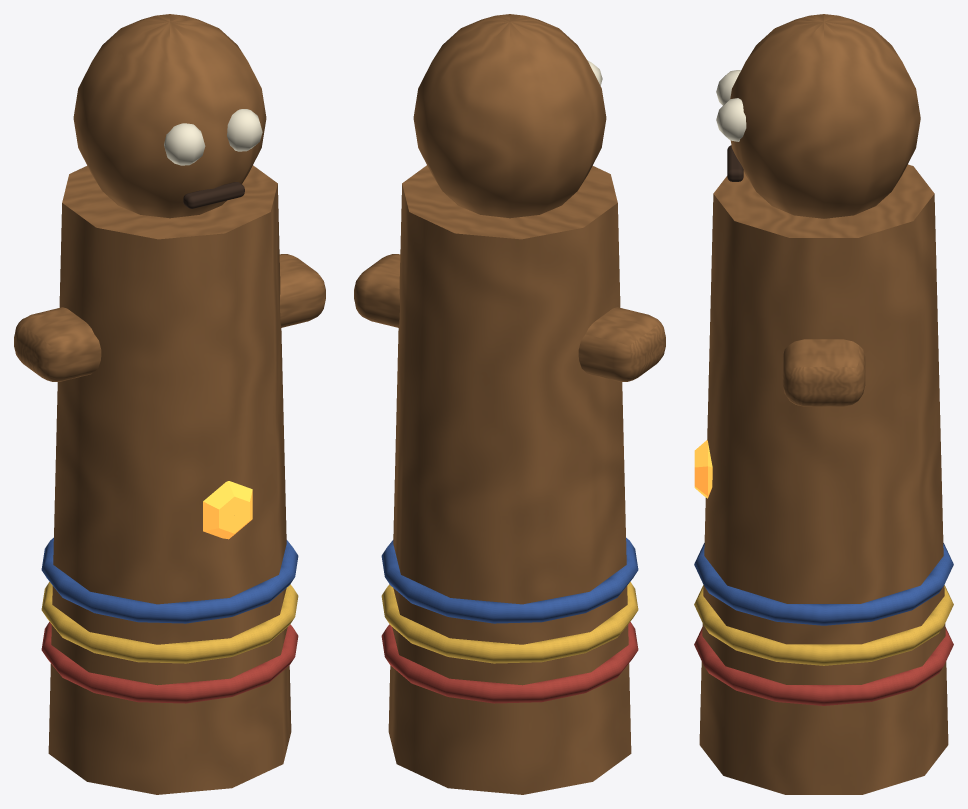
File: shrine_totem.glb
3 renders of one model, left to right at view 1: azimuth 30°, elevation 25°; view 2: azimuth 150°, elevation 25°; view 3: azimuth 270°, elevation 25°, orthographic.
Visible parts, largest first — view 1: shrine_totem; view 2: shrine_totem; view 3: shrine_totem.
Part boxes in pixels (box(x1,y1,x2,y2)): shrine_totem: box(14, 14, 325, 794); shrine_totem: box(354, 14, 665, 794); shrine_totem: box(694, 14, 953, 794).
Bounding box in the file's own units: 0.12 × 0.2885 × 0.094.
7 materials, 4 textured.
